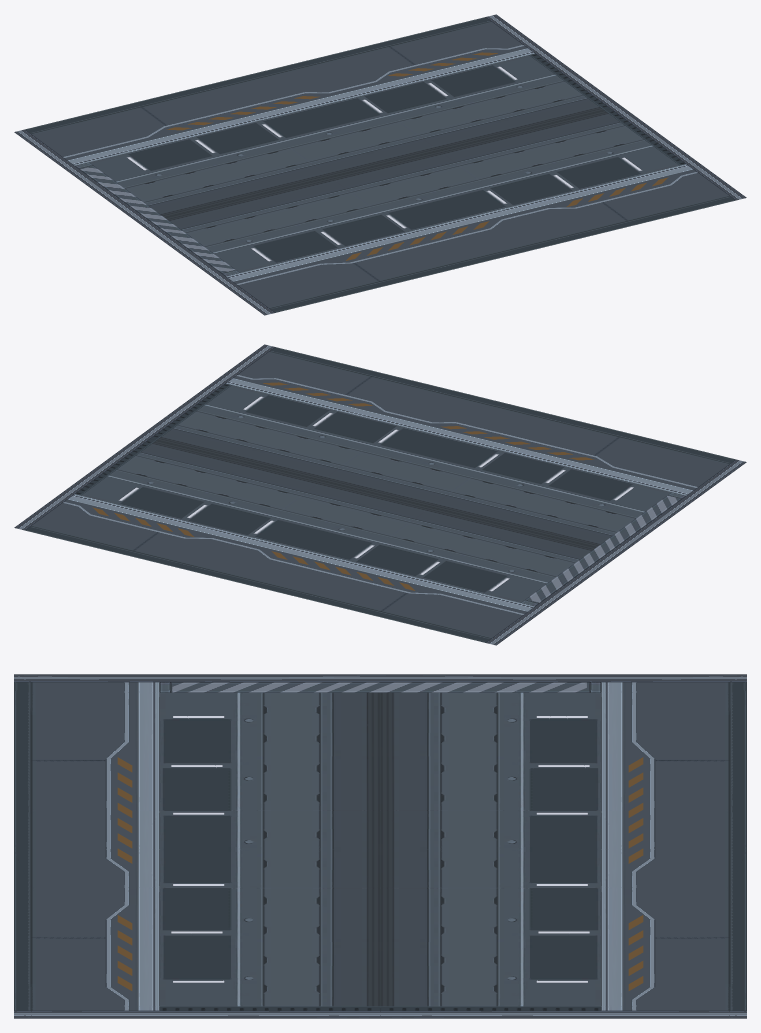
File: my_carrier_01_carpet_06.glb
The picture shows the model from 3 angles, top to bottom: view 1: azimuth 30°, elevation 25°; view 2: azimuth 150°, elevation 25°; view 3: azimuth 270°, elevation 25°; orthographic projection. The views are drawn at different scales.
Parts seen in each view (by area): view 1: my_carrier_01_carpet_06; view 2: my_carrier_01_carpet_06; view 3: my_carrier_01_carpet_06.
Boxes of the visible parts, x1=… form: my_carrier_01_carpet_06: x1=14, y1=14, x2=746, y2=315; my_carrier_01_carpet_06: x1=14, y1=344, x2=746, y2=645; my_carrier_01_carpet_06: x1=14, y1=674, x2=746, y2=1018.
Bounding box in the file's own units: 0.06 × 9.7e-06 × 0.054.
1 material, 1 textured.
